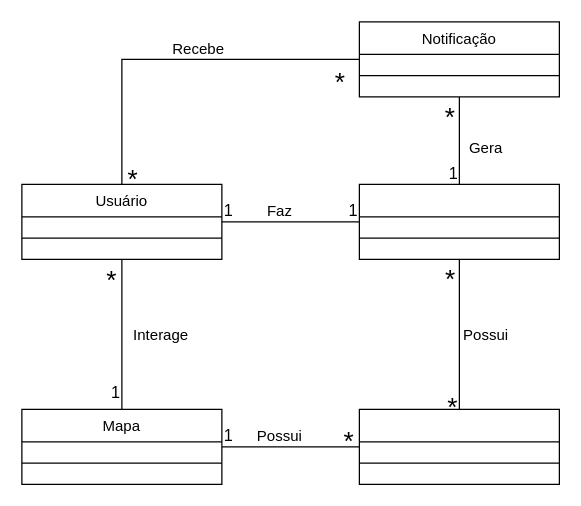
Image size: 581x506. Some labels were removed from this diagram. Here are the shapes that lost their labels. From the top down, the box of each, then its label:
(358, 183, 559, 259): Subscrição
(358, 408, 559, 484): Praia
